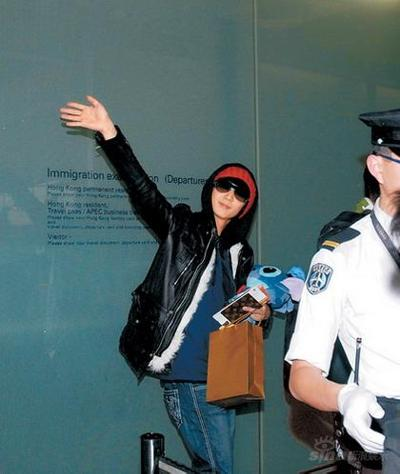person: (60, 96, 272, 474)
